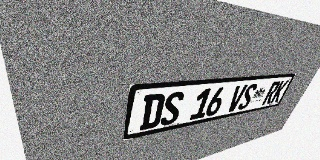1: (189, 88, 214, 120)
6: (204, 86, 228, 117)
D: (139, 93, 166, 131)
K: (270, 80, 289, 103)
R: (261, 81, 281, 105)
S: (159, 91, 185, 126), (237, 83, 258, 110)
V: (225, 84, 248, 113)
